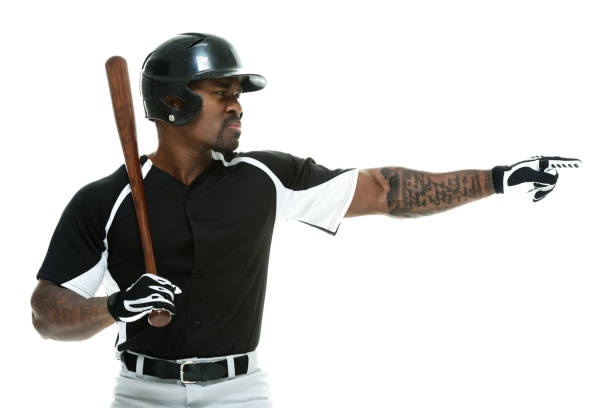bita: (104, 55, 174, 327)
